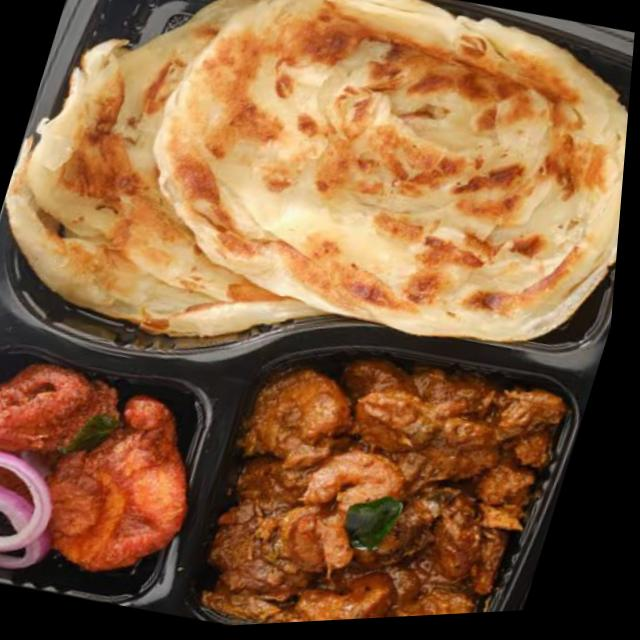PAROTTA: (3, 0, 628, 346)
